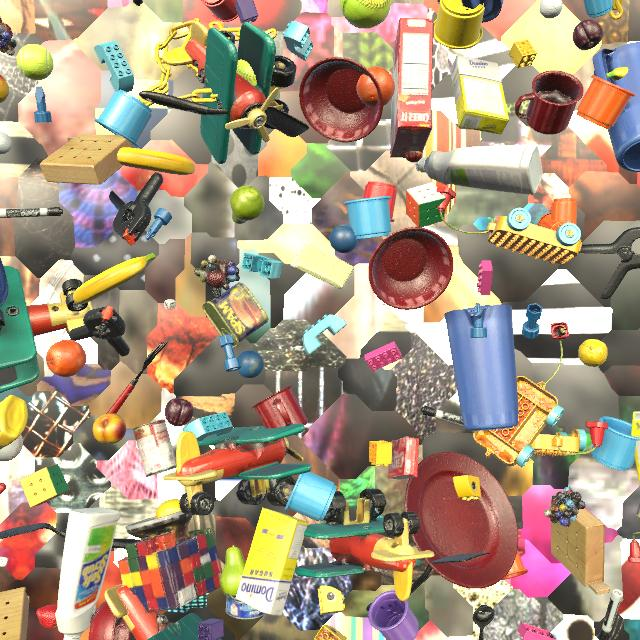ycb_003_cracker_box: (390, 18, 434, 158)
ycb_004_sugar_box: (235, 508, 308, 616), (451, 55, 509, 135), (631, 411, 640, 485)
ycb_005_tomato_soup_can: (132, 419, 177, 477)
ycb_006_mustard_bottle: (0, 395, 28, 450)
ycb_007_tuna_fish_can: (225, 593, 266, 620)
ycb_009_gelatin_box: (388, 436, 419, 480)
ycb_010_potted_meat_can: (202, 282, 268, 348), (636, 503, 640, 518)
ycb_011_banana: (73, 253, 156, 305), (117, 147, 195, 175), (606, 67, 628, 80)
ycb_012_strawberry: (36, 604, 57, 629)
ycb_014_lemon: (578, 339, 608, 367), (156, 499, 181, 518)
ycb_015_peach: (93, 413, 126, 444), (0, 75, 9, 103)
ycb_016_pear: (230, 186, 265, 224), (220, 545, 246, 595)
ycb_017_orange: (356, 67, 395, 107), (46, 340, 86, 377)
ycb_018_plum: (573, 19, 603, 50), (165, 398, 194, 426)
